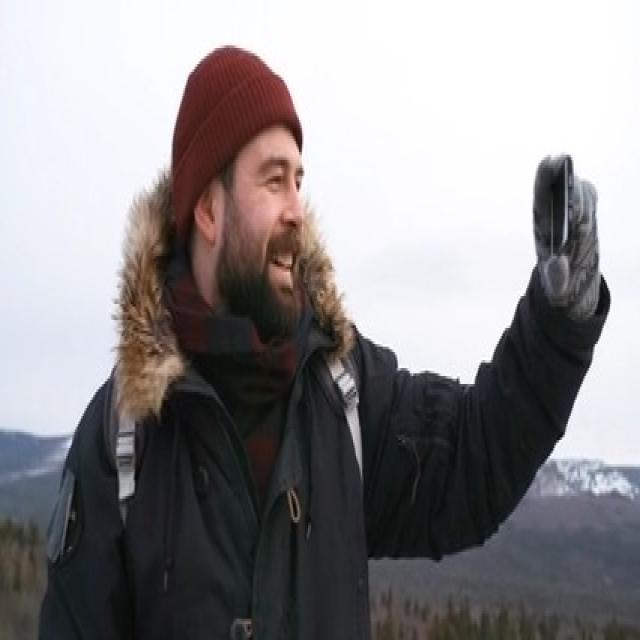Jacket_Wearer: (37, 265, 640, 640)
Person: (50, 42, 600, 640)
